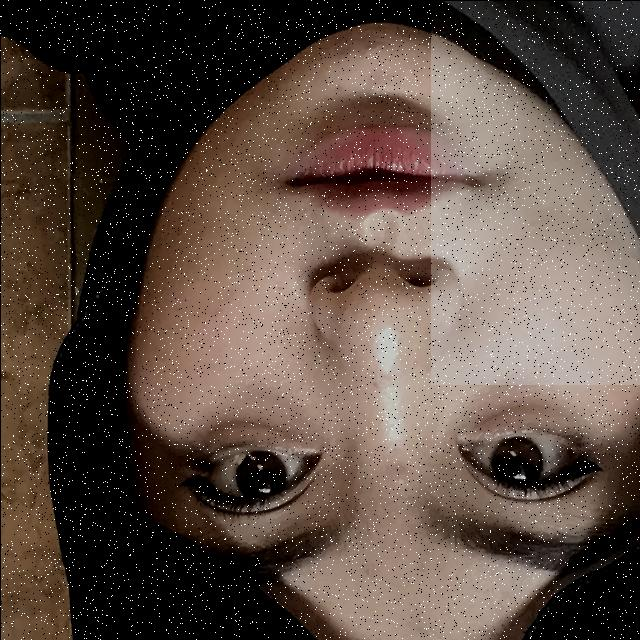ibu: (430, 0, 640, 384)
